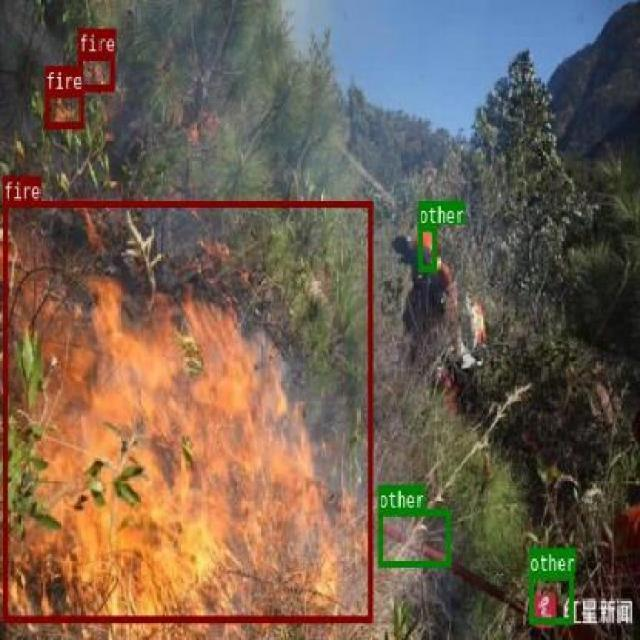Fire: (2, 198, 372, 622), (44, 89, 82, 128), (77, 51, 114, 91)
